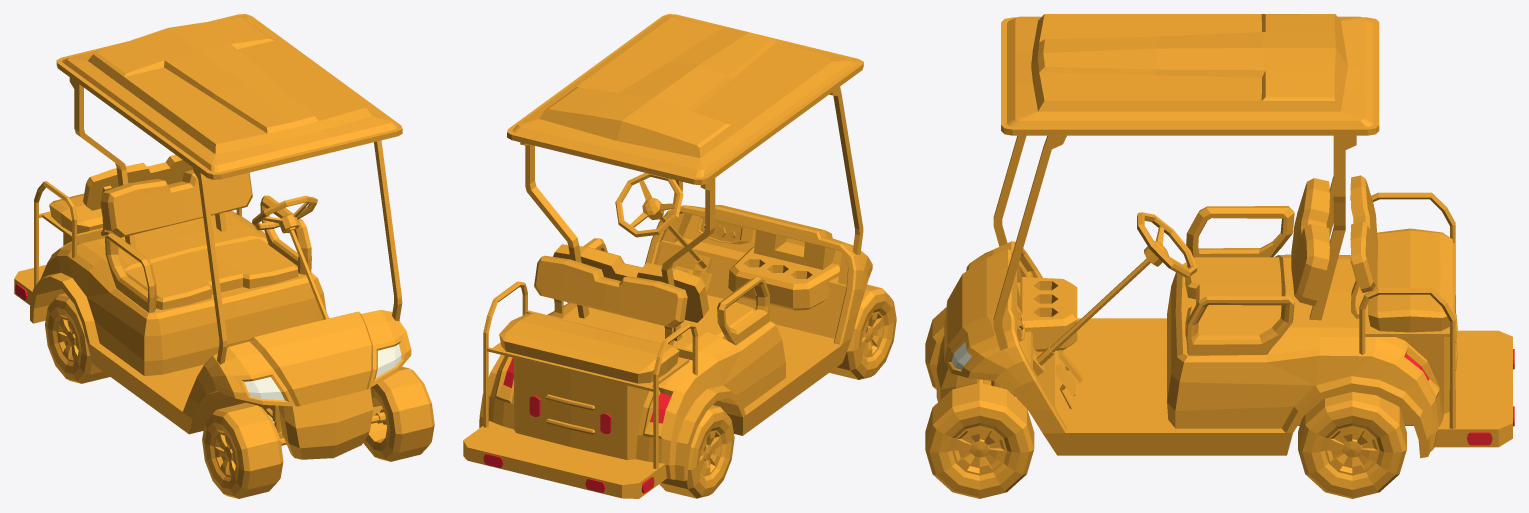
Rendered from SM_Car_GolfCart_Modern.fbx.
The picture shows the model from 3 angles, left to right: view 1: azimuth 30°, elevation 25°; view 2: azimuth 150°, elevation 25°; view 3: azimuth 270°, elevation 25°; orthographic projection. The views are drawn at different scales.
Visible parts, largest first — view 1: SM_Car_GolfCart_Moder_Base, SM_Car_GolfCart_Moder_Wheel_RF, SM_Car_GolfCart_Moder_Wheel_LF, SM_Car_GolfCart_Moder_Wheel_RB, SM_Car_GolfCart_Moder_SteeringWheel; view 2: SM_Car_GolfCart_Moder_Base, SM_Car_GolfCart_Moder_Wheel_RB, SM_Car_GolfCart_Moder_Wheel_RF, SM_Car_GolfCart_Moder_SteeringWheel; view 3: SM_Car_GolfCart_Moder_Base, SM_Car_GolfCart_Moder_Wheel_LF, SM_Car_GolfCart_Moder_Wheel_LB, SM_Car_GolfCart_Moder_SteeringWheel, SM_Car_GolfCart_Moder_Wheel_RF.
Boxes of the visible parts, <box> form: SM_Car_GolfCart_Moder_Base: <box>14,14,411,459</box>; SM_Car_GolfCart_Moder_Wheel_RF: <box>202,402,283,498</box>; SM_Car_GolfCart_Moder_Wheel_LF: <box>363,366,434,461</box>; SM_Car_GolfCart_Moder_Wheel_RB: <box>45,293,109,383</box>; SM_Car_GolfCart_Moder_SteeringWheel: <box>252,196,317,233</box>; SM_Car_GolfCart_Moder_Base: <box>463,14,872,498</box>; SM_Car_GolfCart_Moder_Wheel_RB: <box>659,405,734,498</box>; SM_Car_GolfCart_Moder_Wheel_RF: <box>829,284,896,379</box>; SM_Car_GolfCart_Moder_SteeringWheel: <box>615,172,683,237</box>; SM_Car_GolfCart_Moder_Base: <box>936,14,1514,458</box>; SM_Car_GolfCart_Moder_Wheel_LF: <box>925,383,1034,498</box>; SM_Car_GolfCart_Moder_Wheel_LB: <box>1298,392,1406,498</box>; SM_Car_GolfCart_Moder_SteeringWheel: <box>1137,212,1197,277</box>; SM_Car_GolfCart_Moder_Wheel_RF: <box>925,307,1015,396</box>.
Size of the model in its own units: 1.28 by 2.07 by 2.77.
